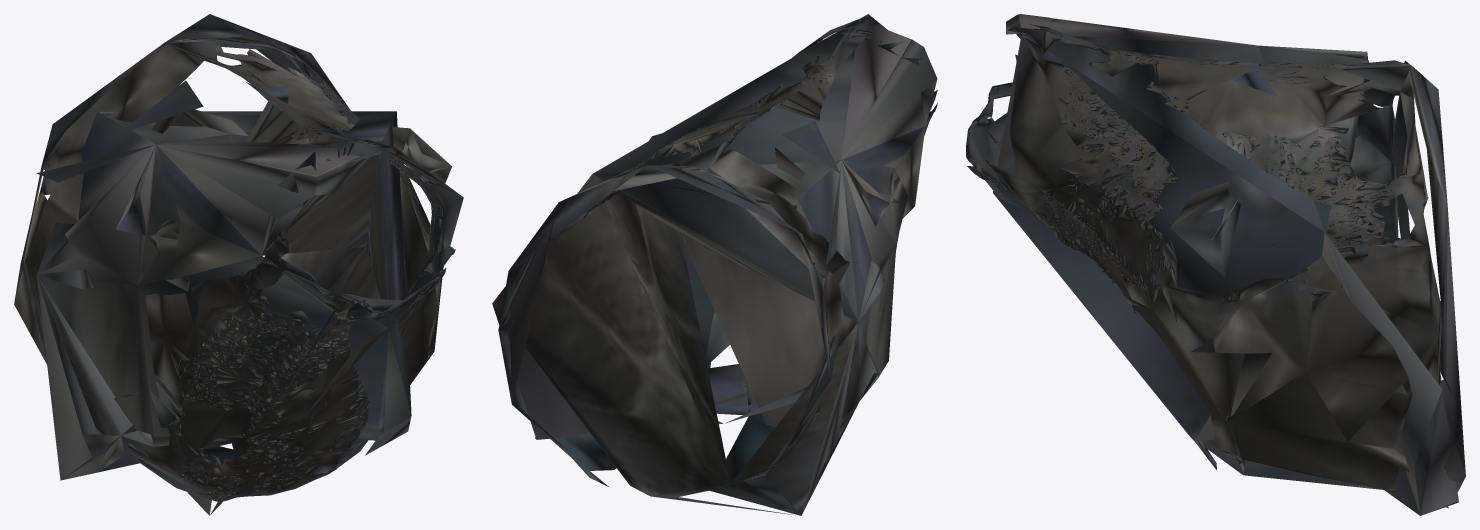
File: carne_afogado_thalor.glb
3 views of the same model, side by side, from view 1: azimuth 30°, elevation 25°; view 2: azimuth 150°, elevation 25°; view 3: azimuth 270°, elevation 25° (orthographic). The views are drawn at different scales.
Visible parts, largest first — view 1: geometry_0; view 2: geometry_0; view 3: geometry_0.
Boxes of the visible parts, x1,y1,x2,y2 form: geometry_0: (14, 14, 463, 515); geometry_0: (492, 14, 937, 515); geometry_0: (966, 14, 1465, 515).
Bounding box in the file's own units: 0.912 × 0.9708 × 1.
1 material, 1 textured.
